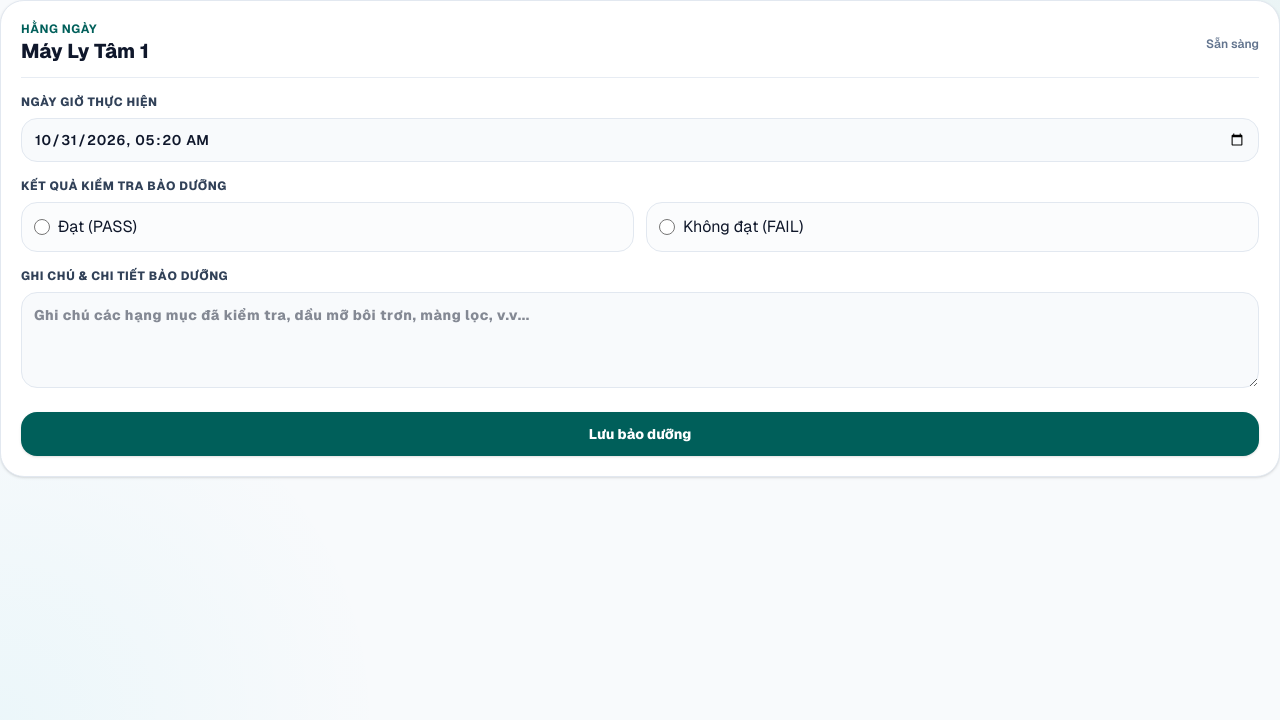
Test: Task 4: Maintenance BM.02 Save Reliability and Input Retention › handles failed save: displays error, retains performedAt, result, and note, provides retry
Click the radio button labelled "Đạt (PASS)" at x=42, y=227, box left=34, top=219, right=50, bottom=235
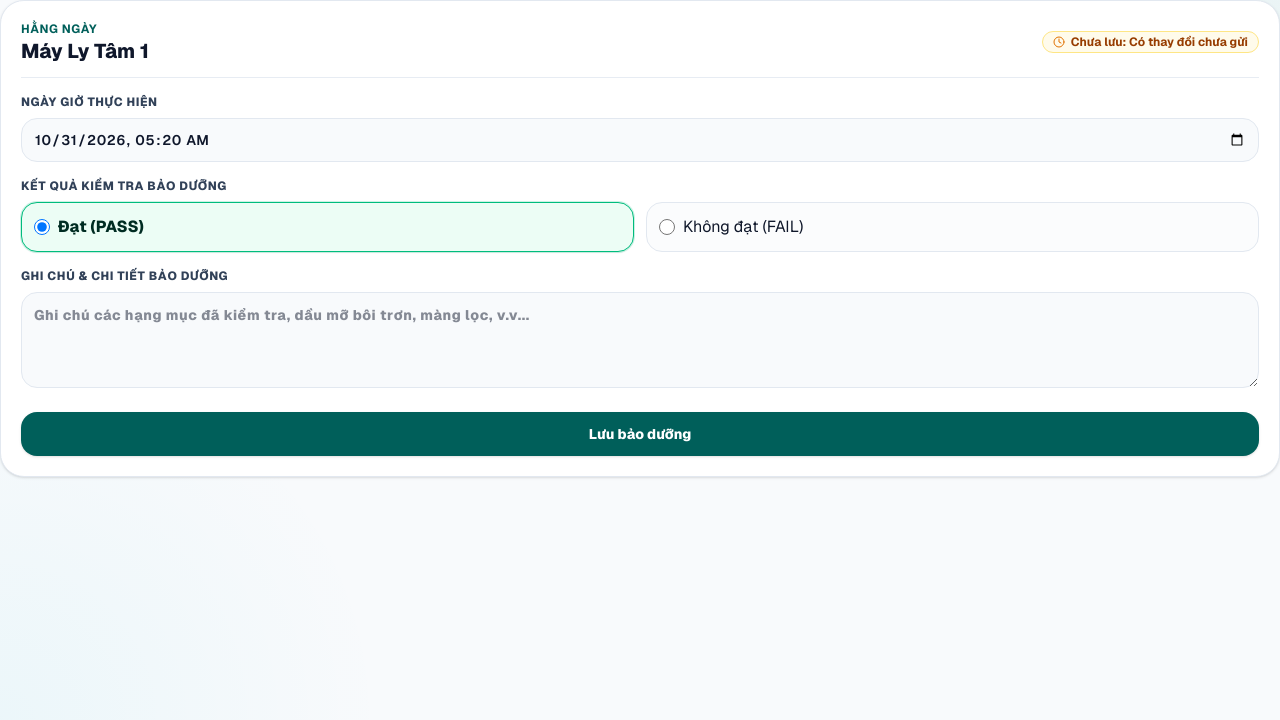
Replace the text in the text box with placeholder "Ghi chú các hạng mục" with "Đã lau chùi rotor và kiểm tra chốt an toàn" at x=640, y=340, box left=21, top=292, right=1259, bottom=388
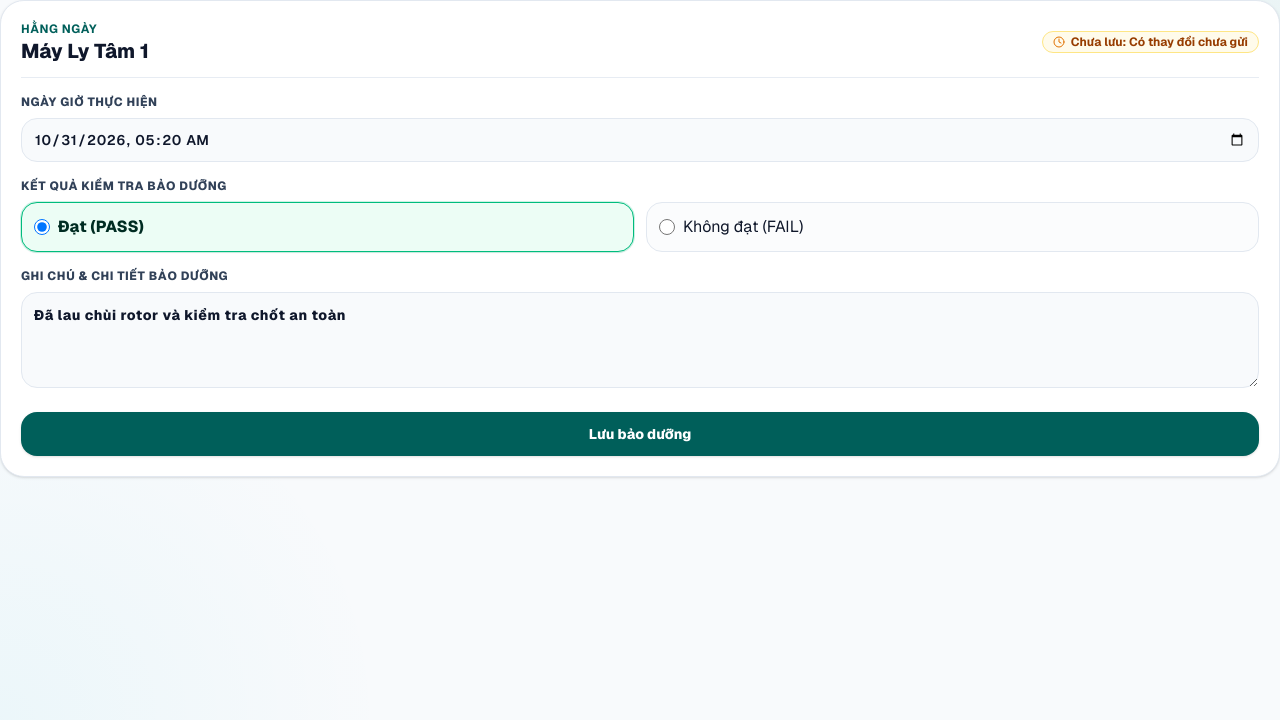
Click the button "Lưu bảo dưỡng" at x=640, y=434, box left=21, top=412, right=1259, bottom=456
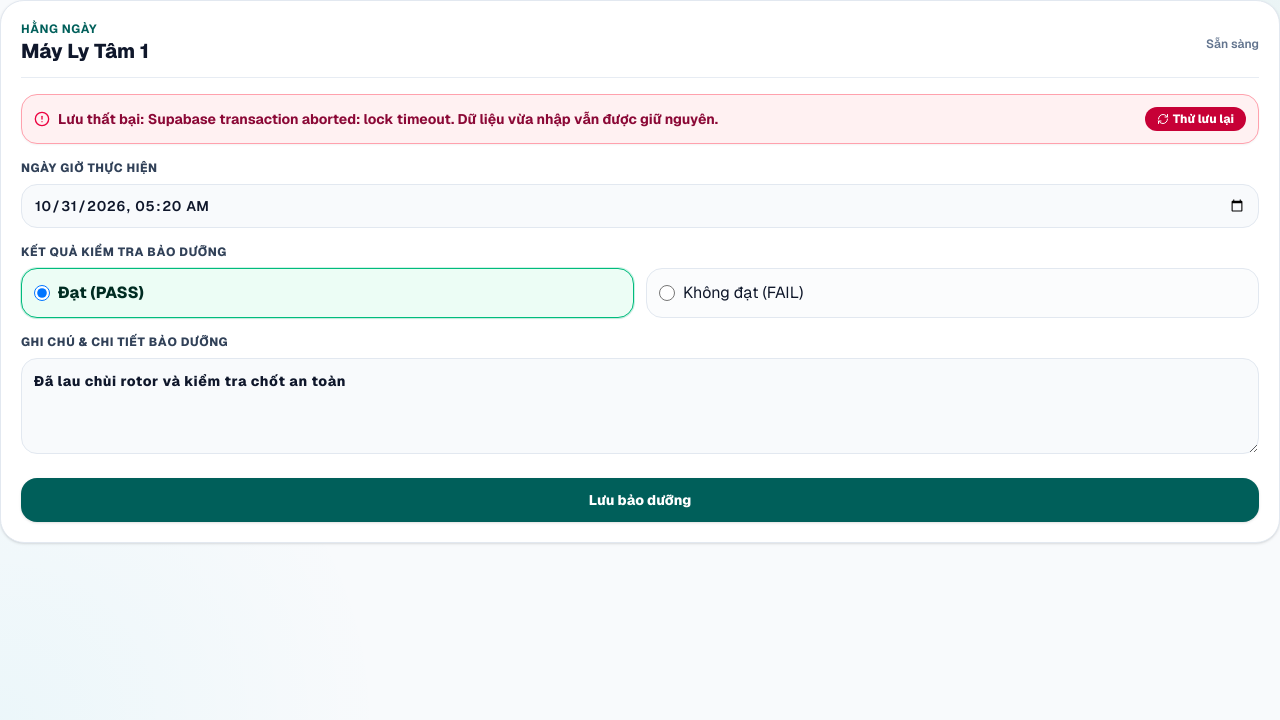
expect the radio button labelled "Đạt (PASS)" is checked: met, box left=34, top=285, right=50, bottom=301
expect the text "Lưu thất bại: Supabase transaction aborted" is shown: met, box left=58, top=109, right=718, bottom=129
expect the button "Thử lưu lại" is shown: met, box left=1145, top=107, right=1246, bottom=131
